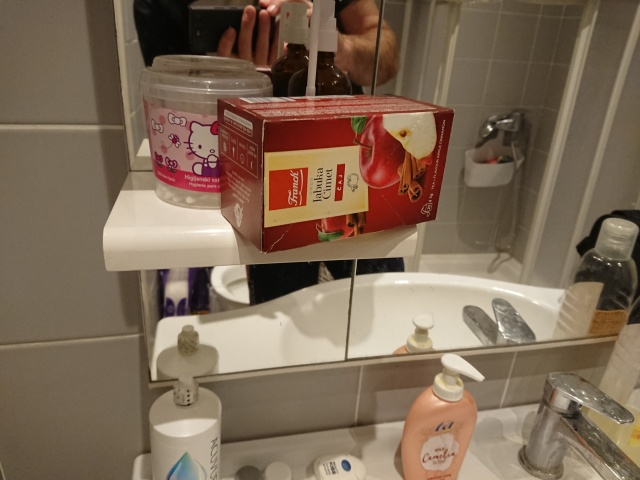Franck Apple Cinnamon Tea 60g: (213, 90, 459, 257)
